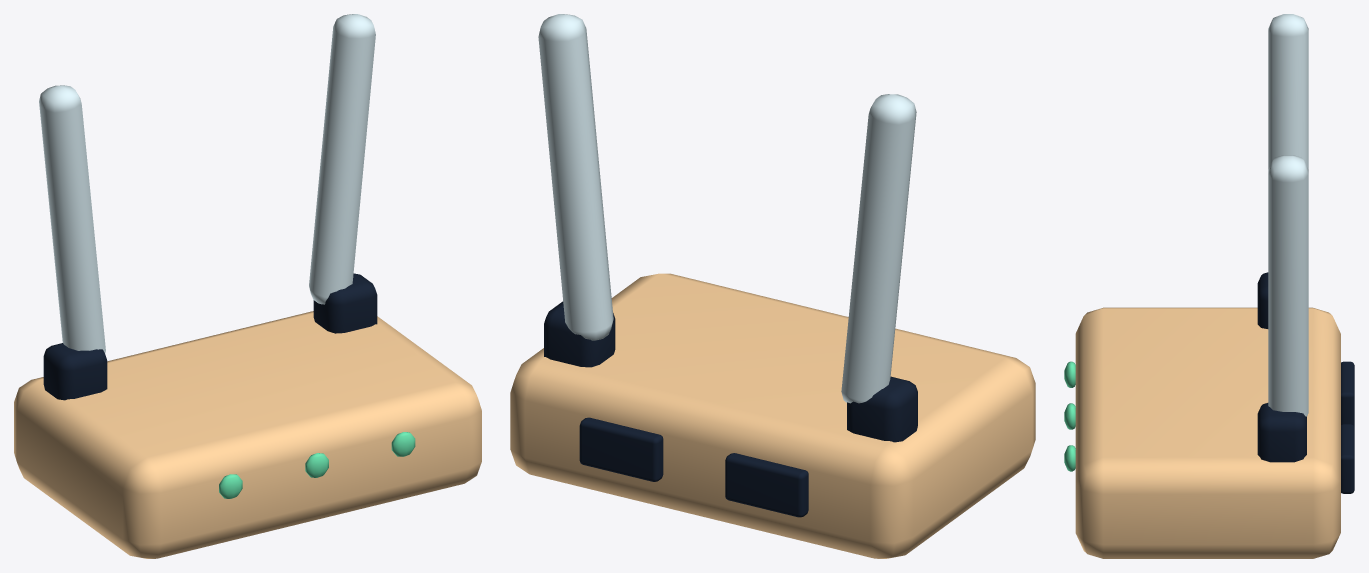
File: router.glb
3 views of the same model, side by side, from view 1: azimuth 30°, elevation 25°; view 2: azimuth 150°, elevation 25°; view 3: azimuth 270°, elevation 25° (orthographic). The views are drawn at different scales.
Visible parts, largest first — view 1: router; view 2: router; view 3: router.
Boxes of the visible parts, <box> form: router: <box>14,14,481,558</box>; router: <box>510,14,1035,558</box>; router: <box>1064,14,1354,558</box>.
Size of the model in its own units: 0.9302 by 1 by 0.6637.
1 material, 1 textured.
